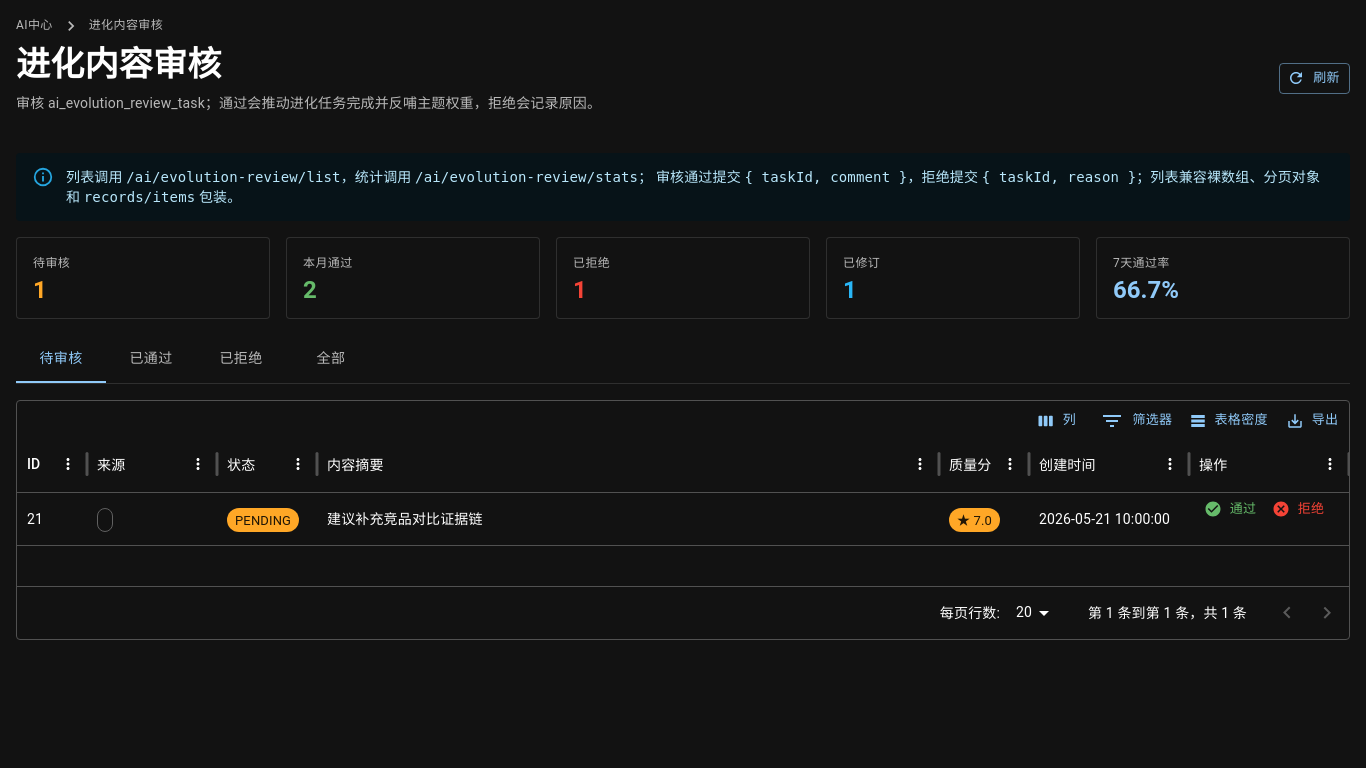
Evolution ops pages › EvolutionReviewPage uses a theme-aware review summary surface in dark mode
Check: the text "建议补充竞品对比证据链" is shown, box [327, 511, 483, 527]
Step 1. Click the button "通过" → [1231, 509], box [1199, 494, 1263, 525]
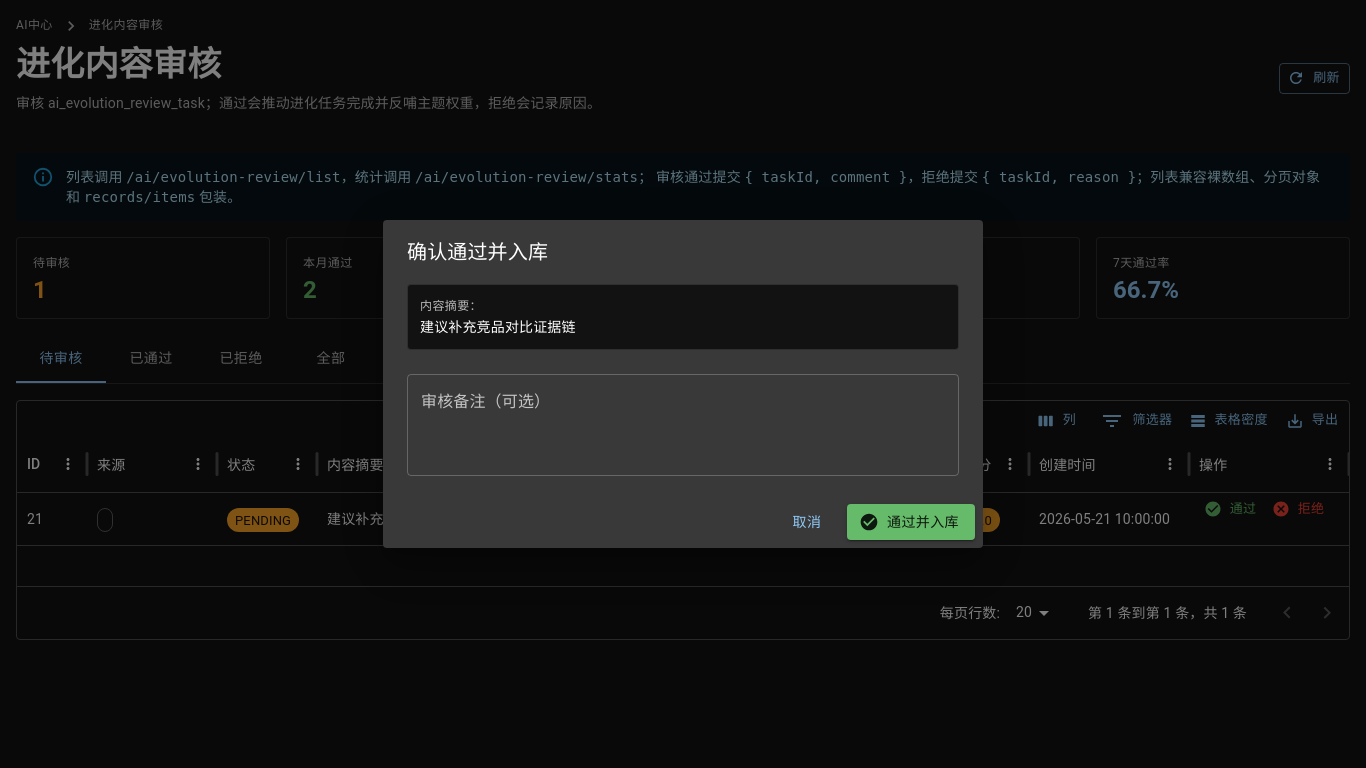
Check: the dialog "确认通过并入库" is shown, box [383, 220, 983, 548]
